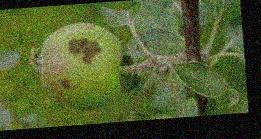rotten apple: (39, 21, 128, 109)
